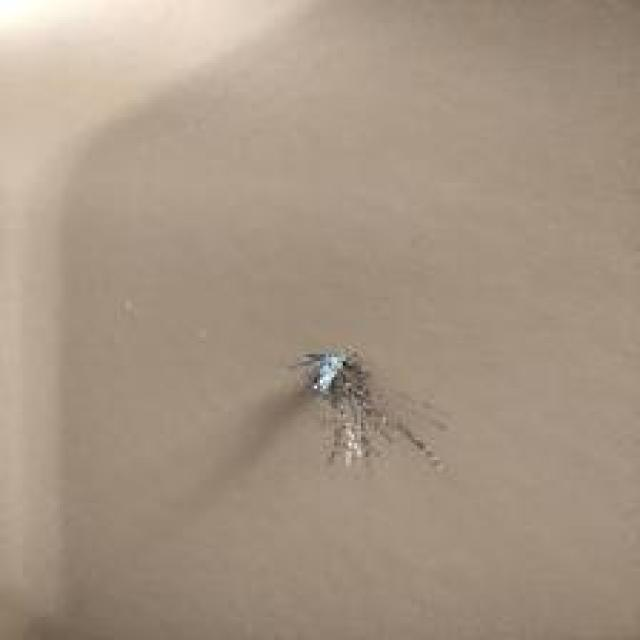Aedes albopictus: (287, 344, 453, 473)
